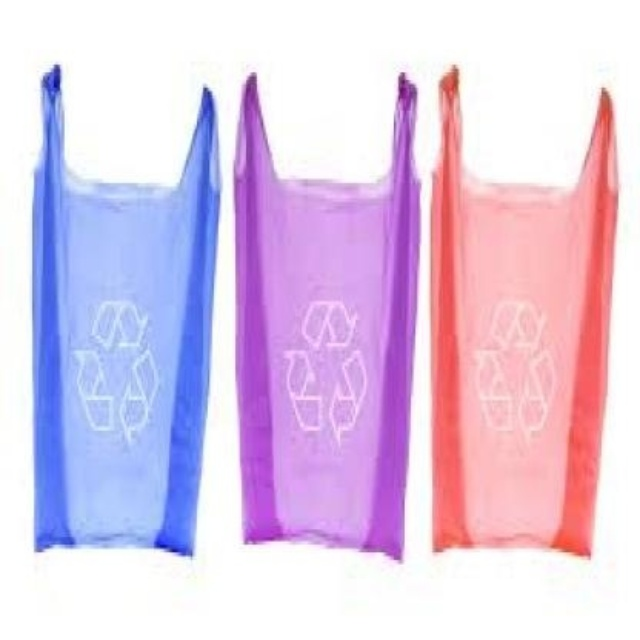trash: (432, 68, 617, 554), (34, 66, 218, 554), (234, 75, 418, 557)
